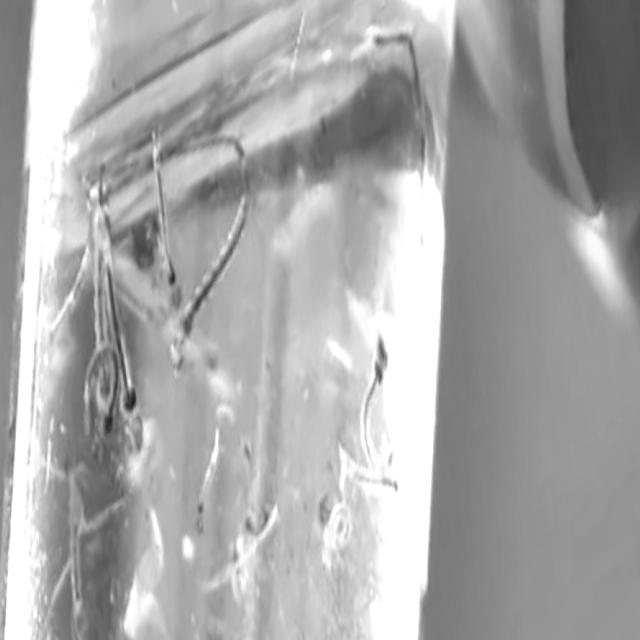larvas: (162, 153, 268, 380), (374, 28, 427, 174), (101, 246, 140, 415), (45, 244, 93, 340), (149, 138, 179, 283), (362, 336, 388, 462), (119, 276, 180, 329), (338, 448, 400, 491), (68, 516, 89, 632), (196, 432, 221, 529), (75, 366, 100, 442), (91, 222, 106, 344), (98, 348, 119, 432), (321, 507, 351, 565)
